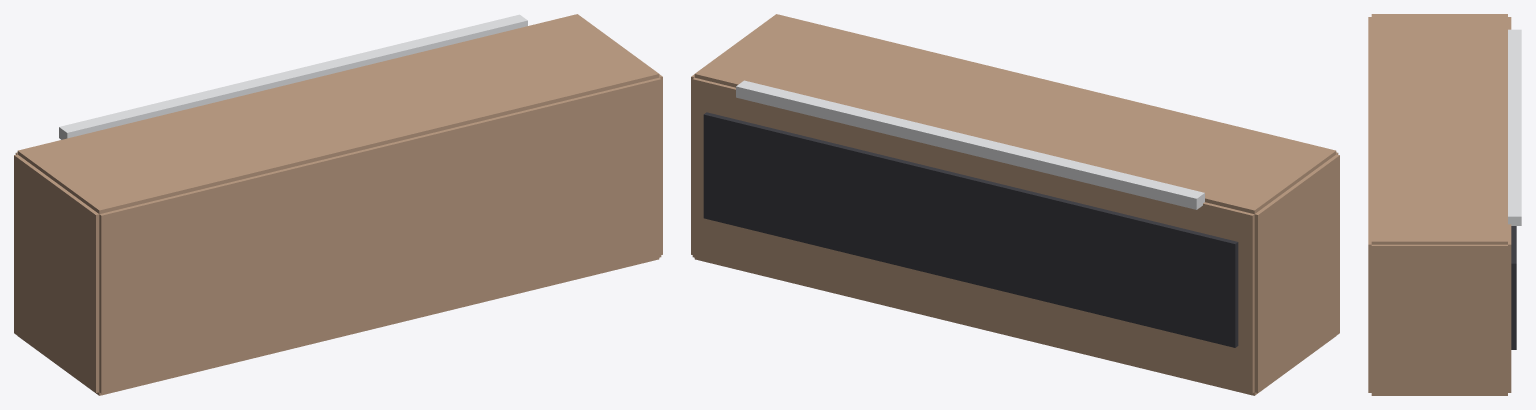
Rendered from tv_stand.glb.
3 renders of one model, left to right at view 1: azimuth 30°, elevation 25°; view 2: azimuth 150°, elevation 25°; view 3: azimuth 270°, elevation 25°, orthographic. The views are drawn at different scales.
Visible parts, largest first — view 1: tv_stand; view 2: tv_stand; view 3: tv_stand.
Boxes of the visible parts, <box> form: tv_stand: <box>14,14,662,395</box>; tv_stand: <box>691,14,1339,395</box>; tv_stand: <box>1368,14,1521,395</box>.
Bounding box in the file's own units: 1.6 × 0.515 × 0.45.
